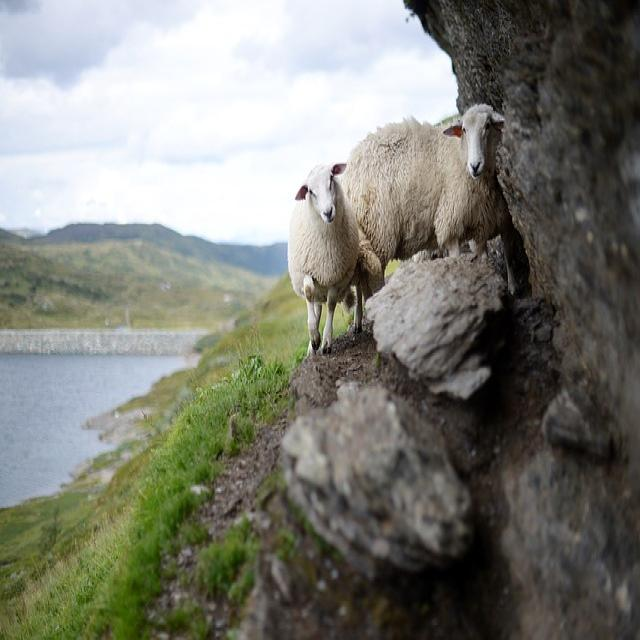goat: (342, 103, 509, 271), (289, 163, 358, 354)
